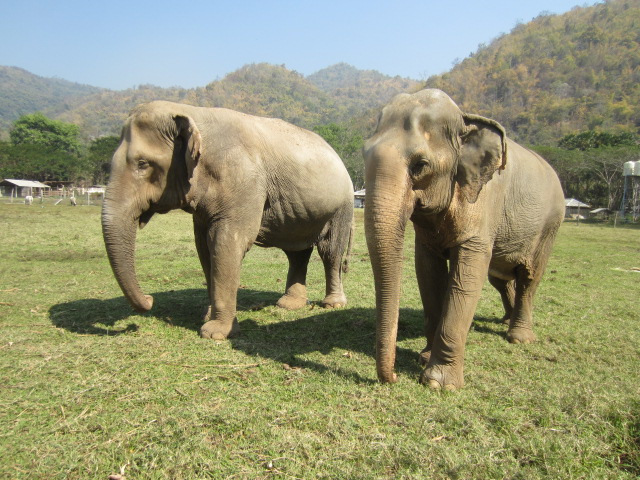elephant: (96, 85, 363, 348), (349, 89, 573, 397)
